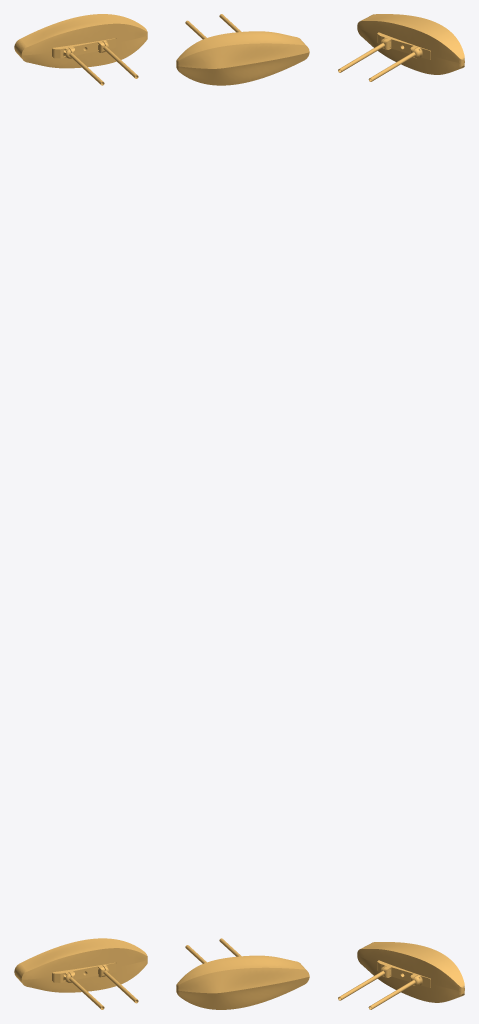
The model's file is floats.glb.
3 renders of one model, left to right at view 1: azimuth 30°, elevation 25°; view 2: azimuth 210°, elevation 25°; view 3: azimuth 330°, elevation 25°, orthographic.
Visible parts, largest first — view 1: floats; view 2: floats; view 3: floats.
Boxes of the visible parts, x1=… form: floats: x1=14, y1=14, x2=147, y2=1009; floats: x1=176, y1=14, x2=309, y2=1009; floats: x1=338, y1=14, x2=464, y2=1009.
Size of the model in its own units: 0.1964 by 1.56 by 0.1798.
